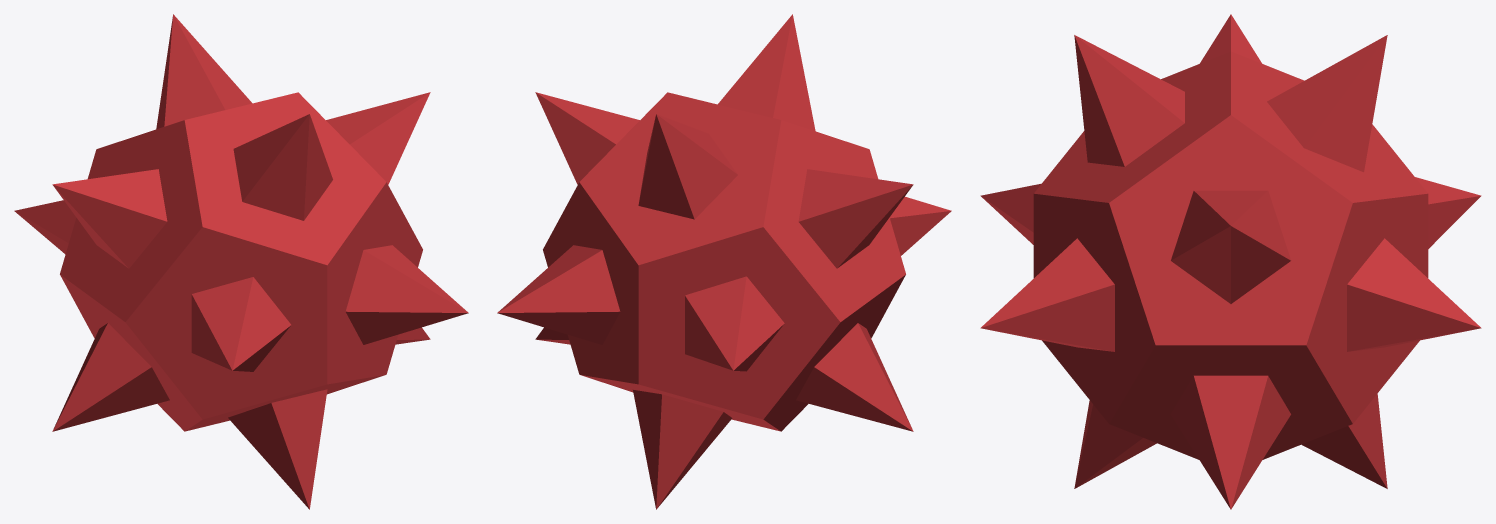
Rendered from SpikeBall.fbx.
3 renders of one model, left to right at view 1: azimuth 30°, elevation 25°; view 2: azimuth 150°, elevation 25°; view 3: azimuth 270°, elevation 25°, orthographic. The views are drawn at different scales.
Visible parts, largest first — view 1: SpikeBall; view 2: SpikeBall; view 3: SpikeBall.
Part boxes in pixels (x1,y1,x2,y2): SpikeBall: [14, 14, 468, 509]; SpikeBall: [497, 14, 951, 509]; SpikeBall: [980, 14, 1481, 509].
Bounding box in the file's own units: 119 × 119 × 119.
